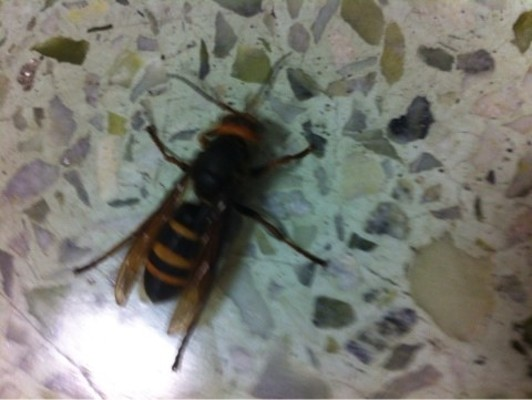asian_giant_hornet: (112, 108, 266, 309)
